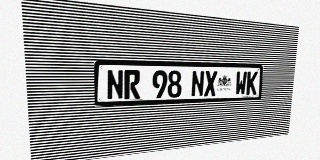8: (167, 70, 182, 98)
9: (152, 70, 167, 98)
K: (246, 71, 258, 95)
N: (106, 70, 124, 100), (191, 71, 205, 97)
R: (124, 70, 140, 99)
W: (235, 71, 247, 95)
X: (204, 71, 217, 96)
